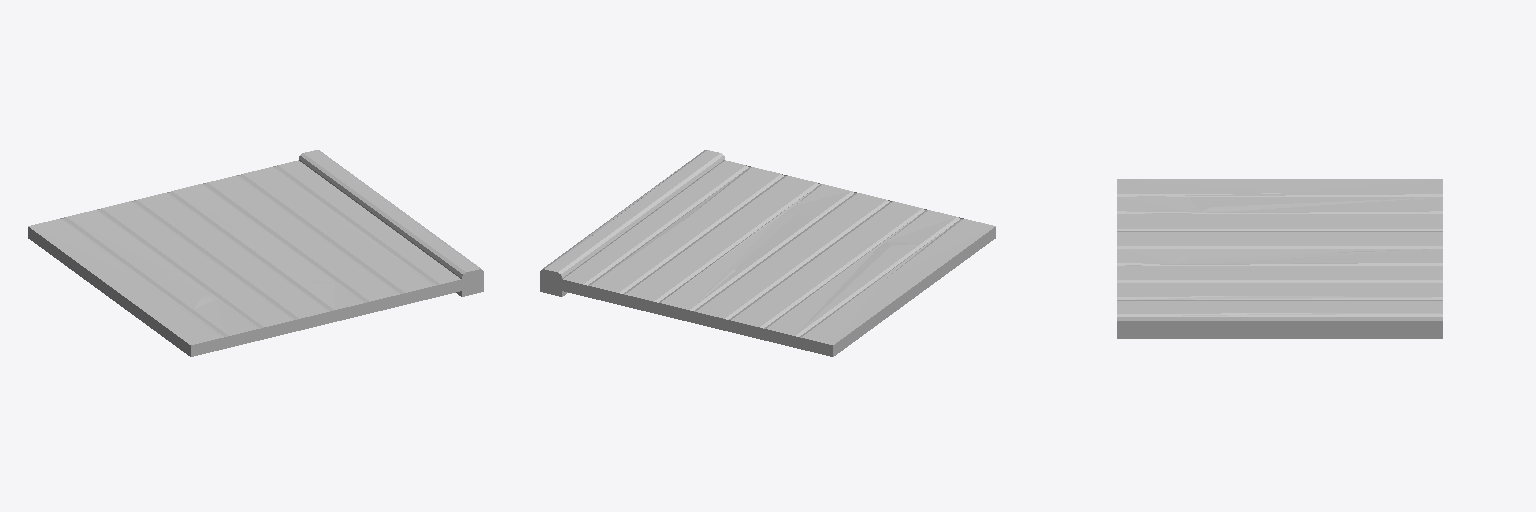
Rendered from wall-tile.obj.
3 views of the same model, side by side, from view 1: azimuth 30°, elevation 25°; view 2: azimuth 150°, elevation 25°; view 3: azimuth 270°, elevation 25° (orthographic).
Parts seen in each view (by area): view 1: Cube; view 2: Cube; view 3: Cube.
Part boxes in pixels (bbox=[...]): Cube: bbox=[28, 150, 483, 356]; Cube: bbox=[540, 150, 995, 356]; Cube: bbox=[1117, 179, 1442, 338].
Bounding box in the file's own units: 10.4 × 0.8 × 10.02.